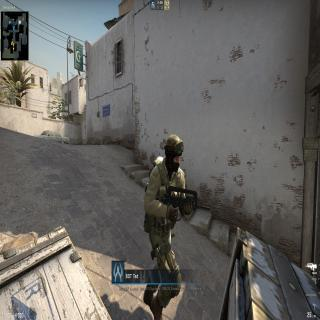CT-Head: (163, 132, 184, 174)
